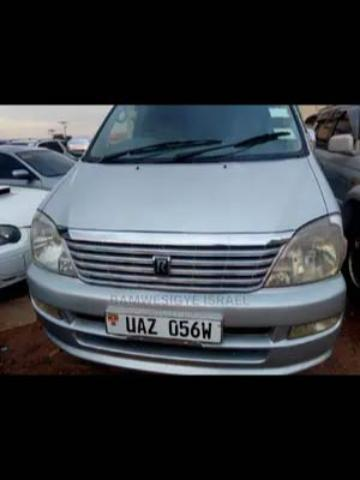van: (25, 107, 342, 368)
